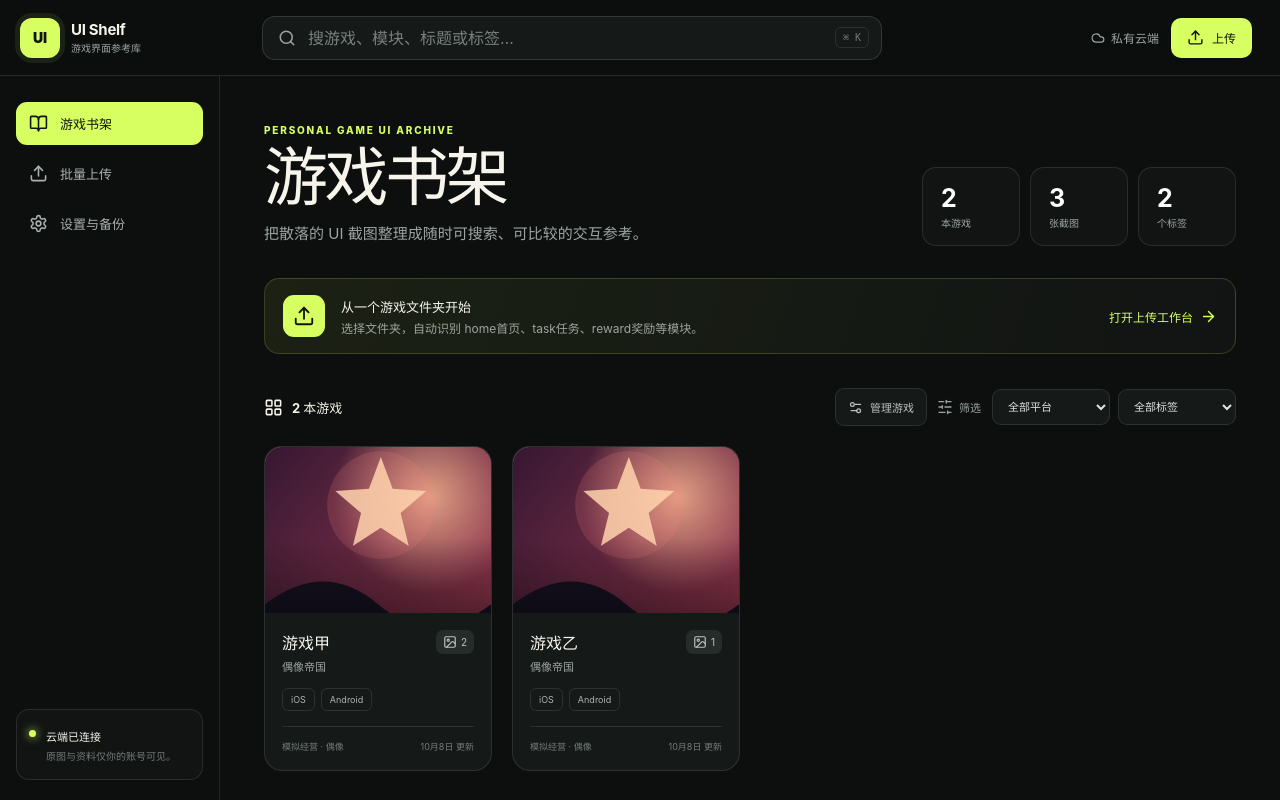
bookshelf game management › cancels with either Escape or the cancel button without deleting and restores focus
This screenshot has width=1280, height=800.
Click the button "管理游戏". click: (881, 407)
box: [835,388,927,426]
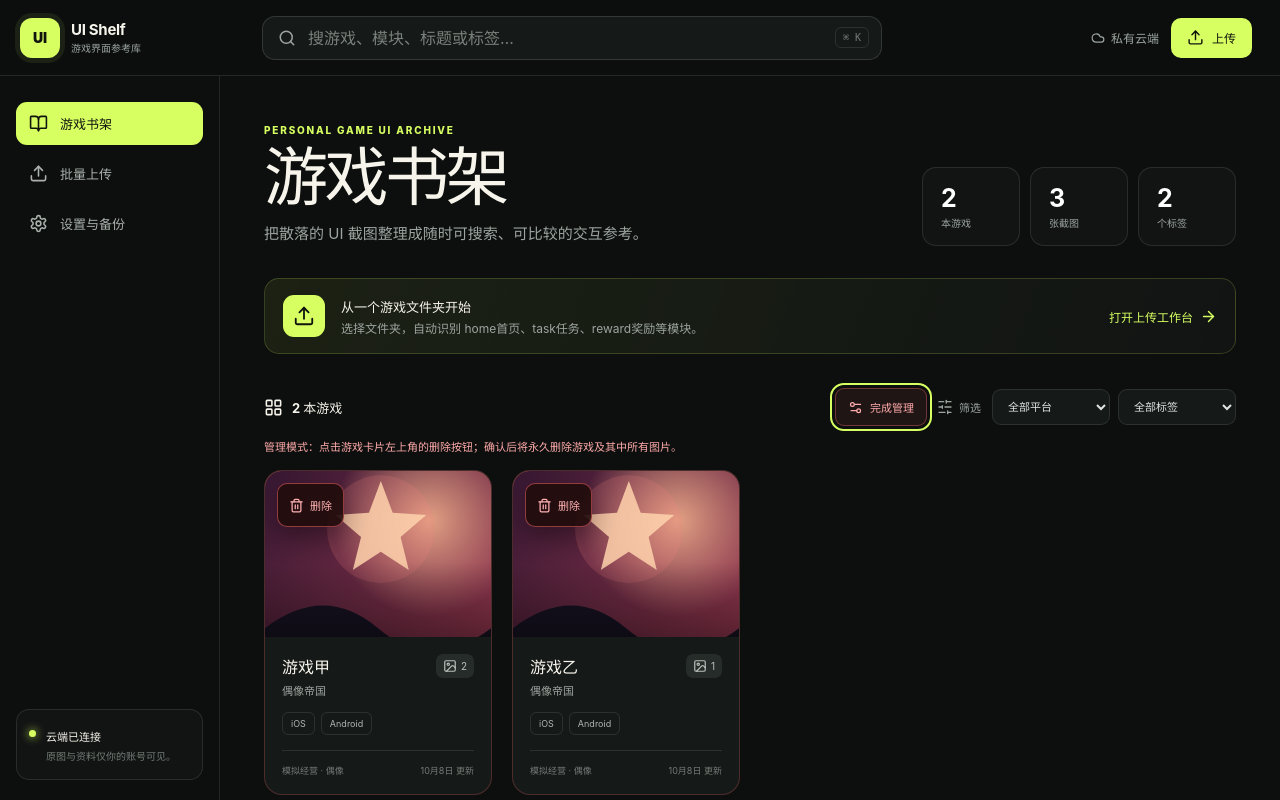
Expected: the button named "管理游戏" is pressed, [835,388,927,426]
Click the button with aria-label "删除游戏 游戏甲". click: (310, 505)
box: [277,483,344,527]
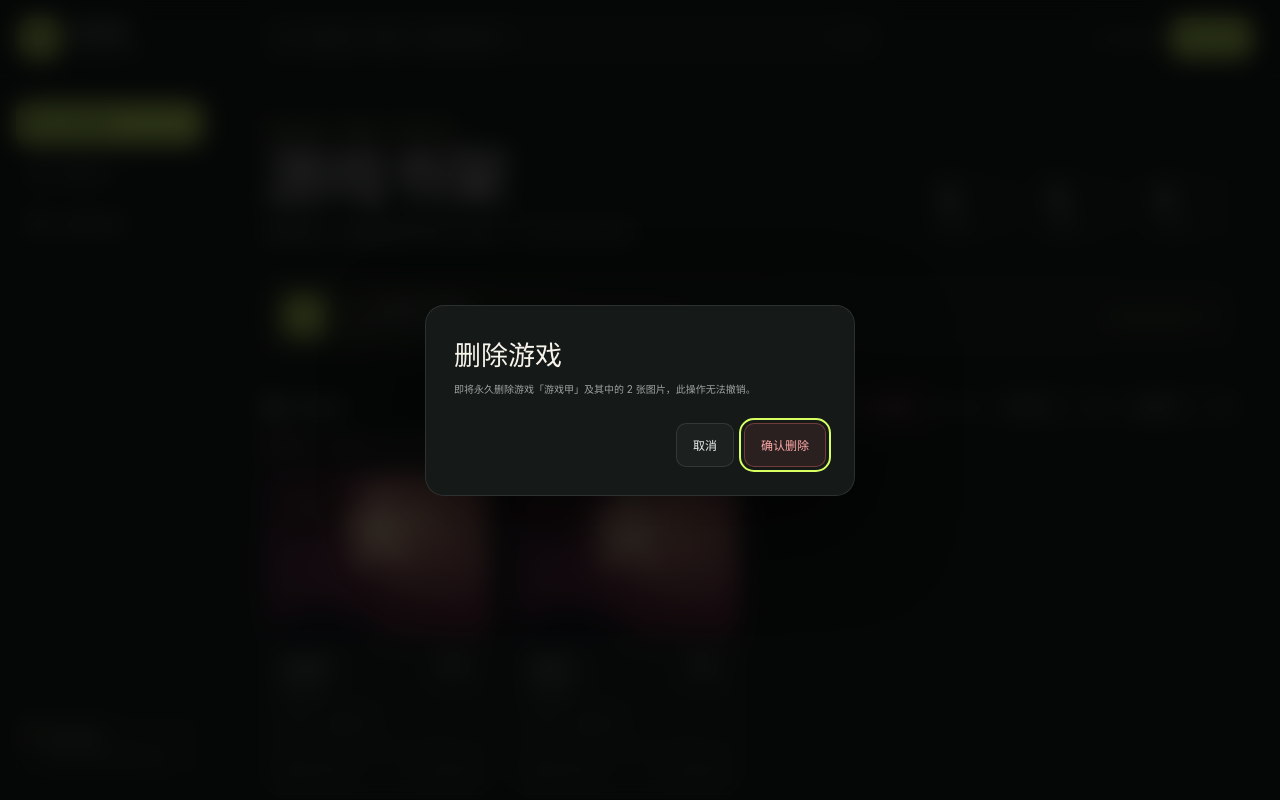
Press Escape
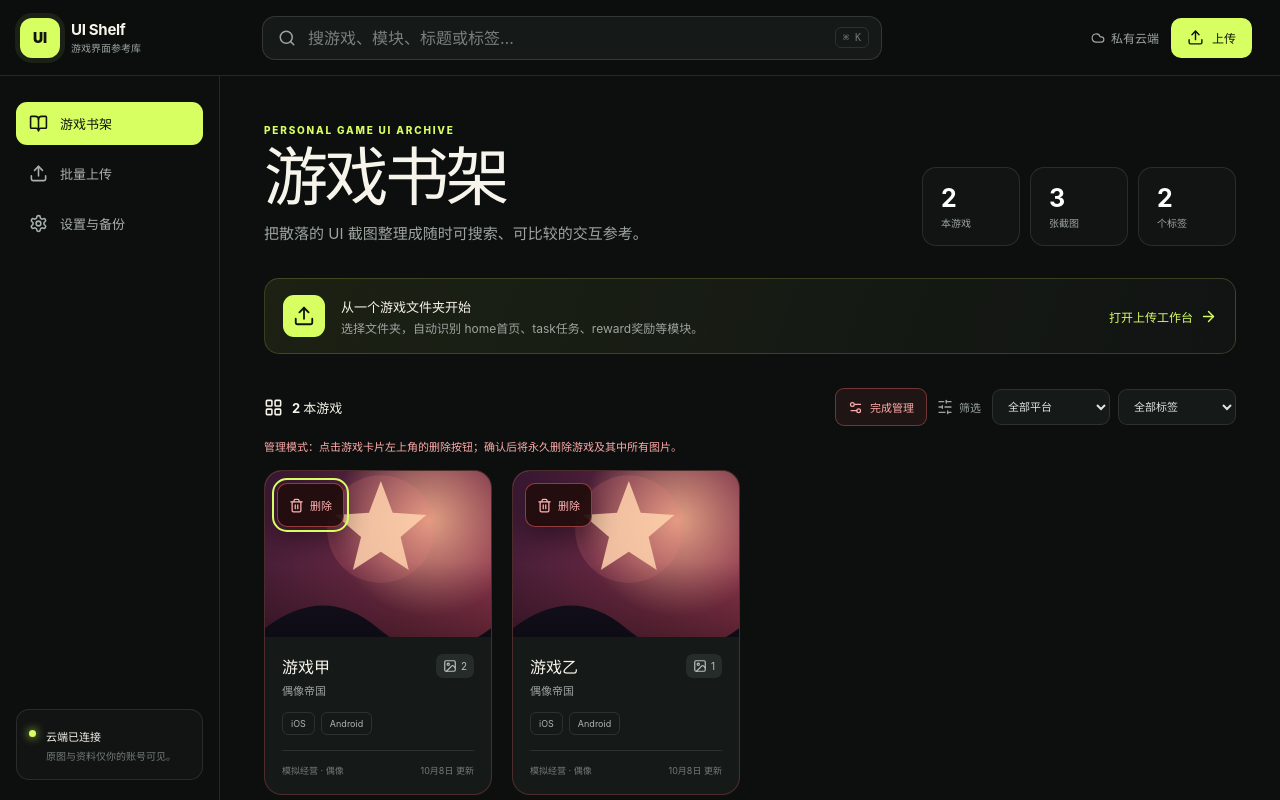
Expected: the dialog is gone
Click the button with aria-label "删除游戏 游戏甲". click: (310, 505)
box: [277,483,344,527]
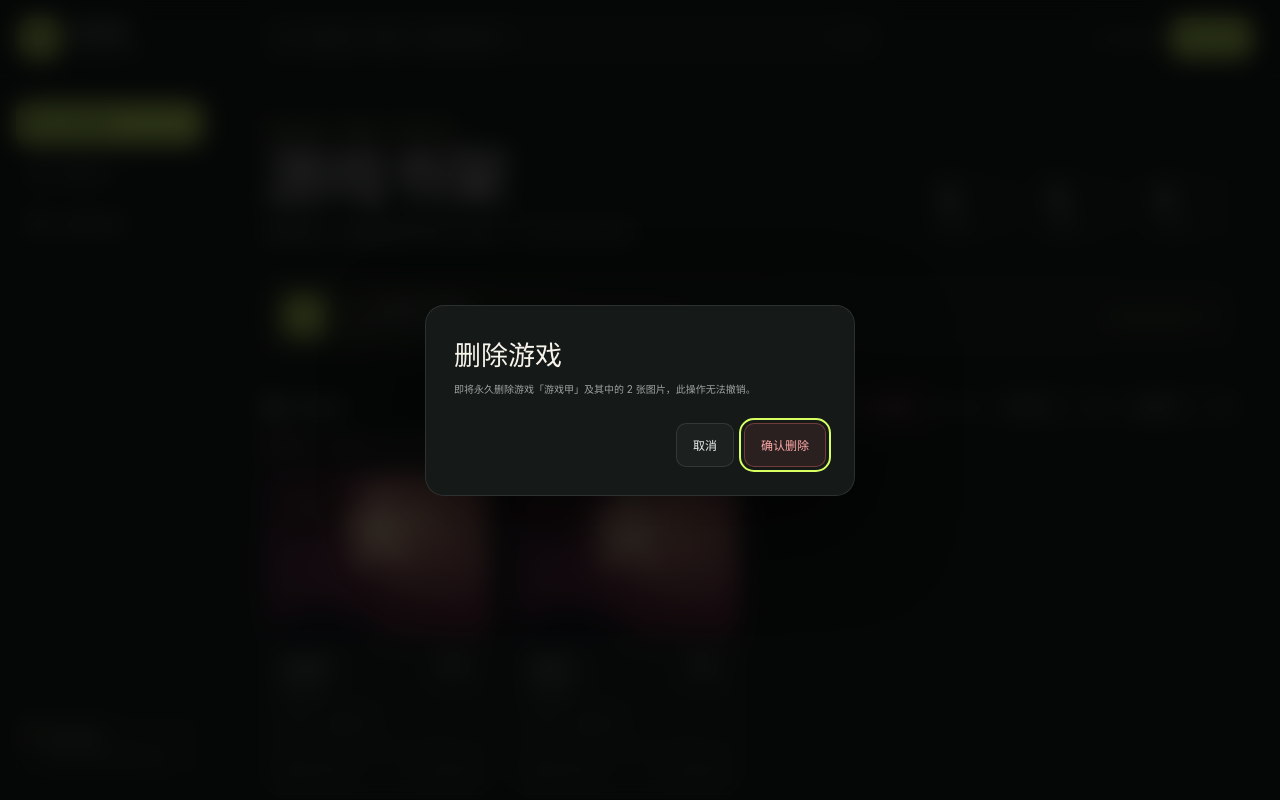
Click the button "取消". click: (705, 444)
box: [676,422,734,466]
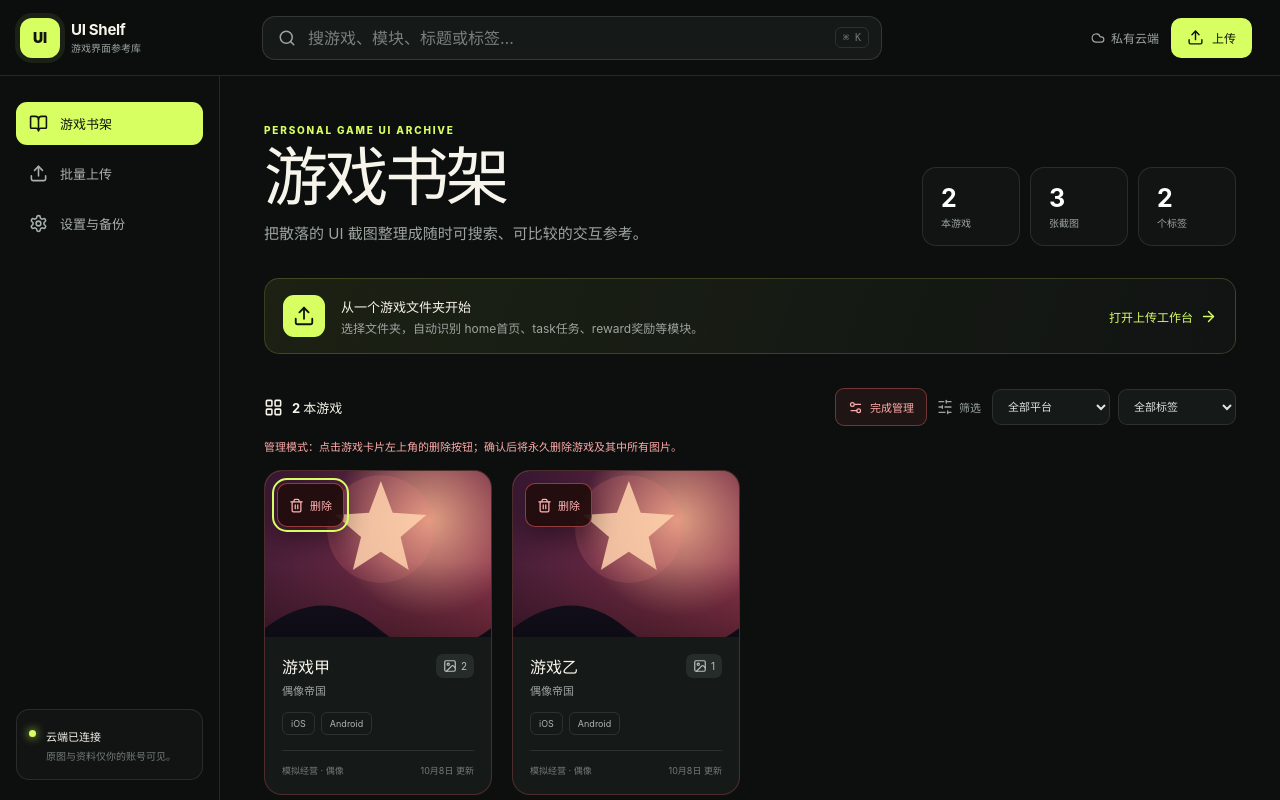
Expected: the dialog is gone
